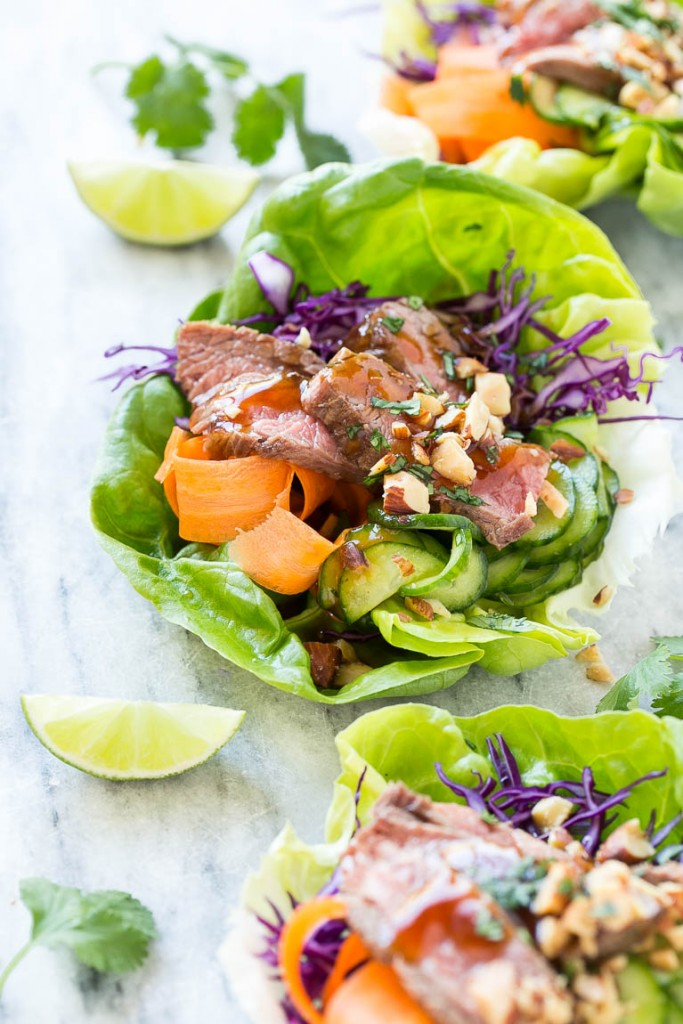chopped lettuce: (268, 138, 630, 345), (102, 558, 579, 691)
